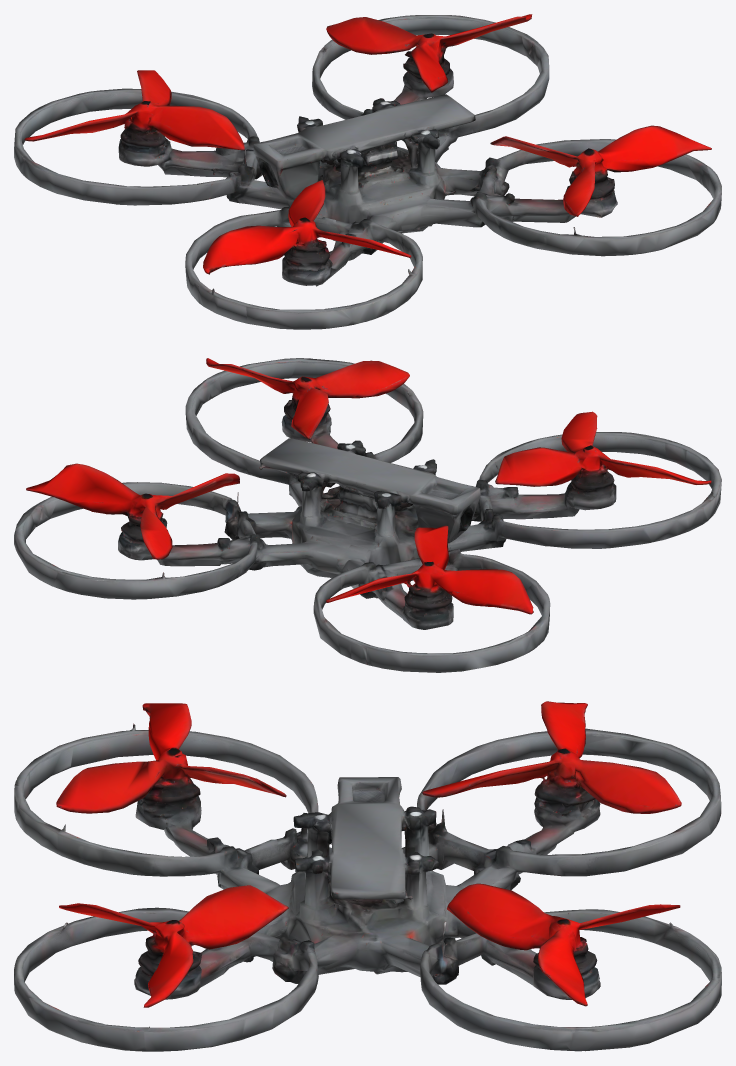
The model's file is quad_25.glb.
3 renders of one model, top to bottom at view 1: azimuth 30°, elevation 25°; view 2: azimuth 150°, elevation 25°; view 3: azimuth 270°, elevation 25°, orthographic. The views are drawn at different scales.
Size of the model in its own units: 2 by 0.3852 by 1.97.
Materials: 1 (1 with a texture image).
